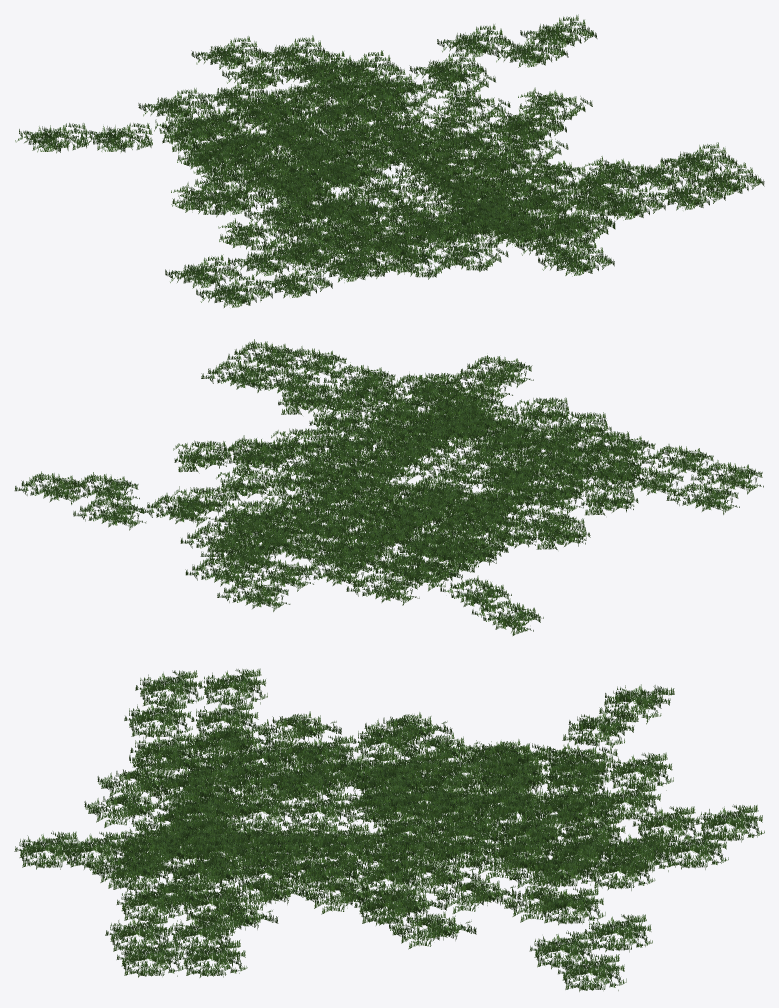
Rendered from Grass.fbx.
3 renders of one model, top to bottom at view 1: azimuth 30°, elevation 25°; view 2: azimuth 150°, elevation 25°; view 3: azimuth 270°, elevation 25°, orthographic. The views are drawn at different scales.
Parts seen in each view (by area): view 1: Grass01, Grass04, Grass05, Grass03, Grass02; view 2: Grass01, Grass05, Grass04, Grass03, Grass02; view 3: Grass01, Grass04, Grass05, Grass03, Grass02.
Boxes of the visible parts, x1=… form: Grass01: x1=171, y1=51, x2=659, y2=279; Grass04: x1=15, y1=78, x2=764, y2=246; Grass05: x1=165, y1=14, x2=597, y2=307; Grass03: x1=154, y1=87, x2=566, y2=259; Grass02: x1=191, y1=35, x2=614, y2=276; Grass01: x1=172, y1=373, x2=643, y2=569; Grass05: x1=14, y1=431, x2=763, y2=563; Grass04: x1=201, y1=339, x2=543, y2=635; Grass03: x1=217, y1=402, x2=588, y2=591; Grass02: x1=185, y1=355, x2=538, y2=611; Grass01: x1=84, y1=711, x2=675, y2=949; Grass04: x1=105, y1=684, x2=674, y2=977; Grass05: x1=124, y1=668, x2=655, y2=991; Grass03: x1=158, y1=740, x2=621, y2=925; Grass02: x1=14, y1=791, x2=764, y2=869.
Size of the model in its own units: 4111 by 77.7 by 4043.
5 materials, 5 textured.
